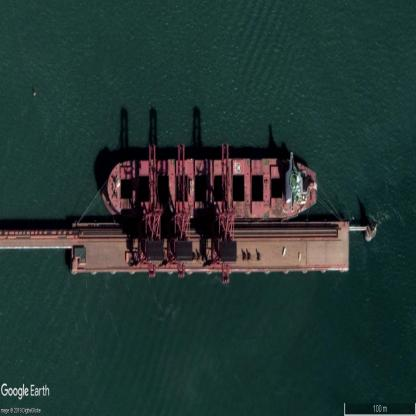ship: (106, 157, 316, 220)
